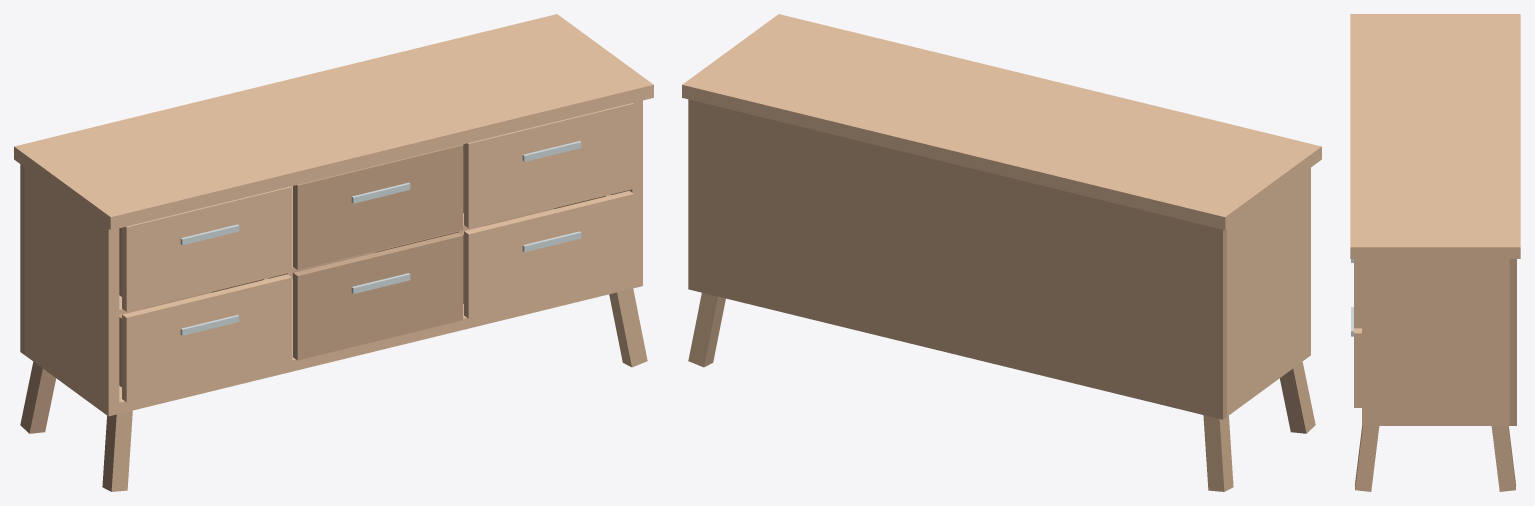
File: dresserMidCentury.glb
3 views of the same model, side by side, from view 1: azimuth 30°, elevation 25°; view 2: azimuth 150°, elevation 25°; view 3: azimuth 270°, elevation 25° (orthographic). The views are drawn at different scales.
Visible parts, largest first — view 1: dresserMidCentury, anim:drawer3, anim:drawer4, anim:drawer1, anim:drawer2; view 2: dresserMidCentury; view 3: dresserMidCentury, anim:drawer4, anim:drawer2.
Boxes of the visible parts, left/top/right/bottom form: dresserMidCentury: left=14, top=14, right=653, bottom=491; anim:drawer3: left=119, top=274, right=291, bottom=402; anim:drawer4: left=463, top=191, right=633, bottom=318; anim:drawer1: left=119, top=186, right=291, bottom=311; anim:drawer2: left=463, top=103, right=633, bottom=228; dresserMidCentury: left=682, top=14, right=1321, bottom=491; dresserMidCentury: left=1350, top=14, right=1520, bottom=491; anim:drawer4: left=1351, top=307, right=1361, bottom=407; anim:drawer2: left=1354, top=259, right=1361, bottom=328.
Size of the model in its own units: 0.762 by 0.3779 by 0.235.
